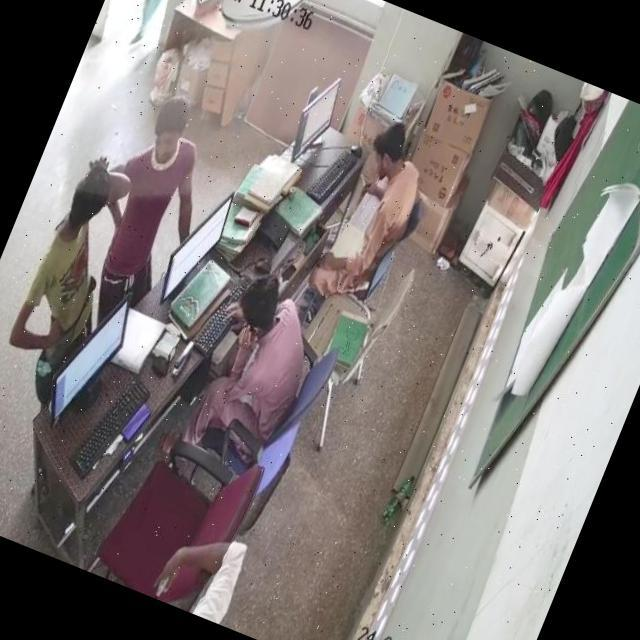person: (80, 92, 215, 297), (14, 151, 140, 353), (199, 263, 332, 439), (332, 120, 442, 278), (121, 0, 201, 52)
